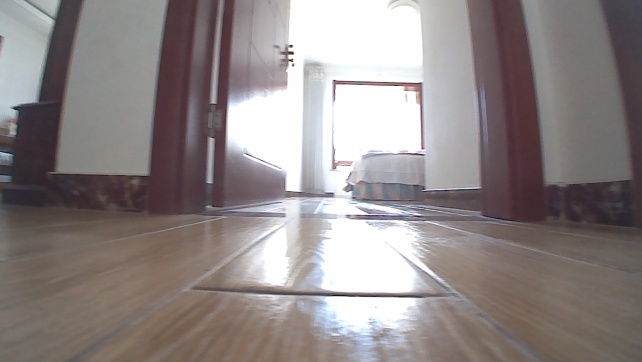bed1: (343, 147, 426, 202)
door_anno: (144, 0, 295, 217)
